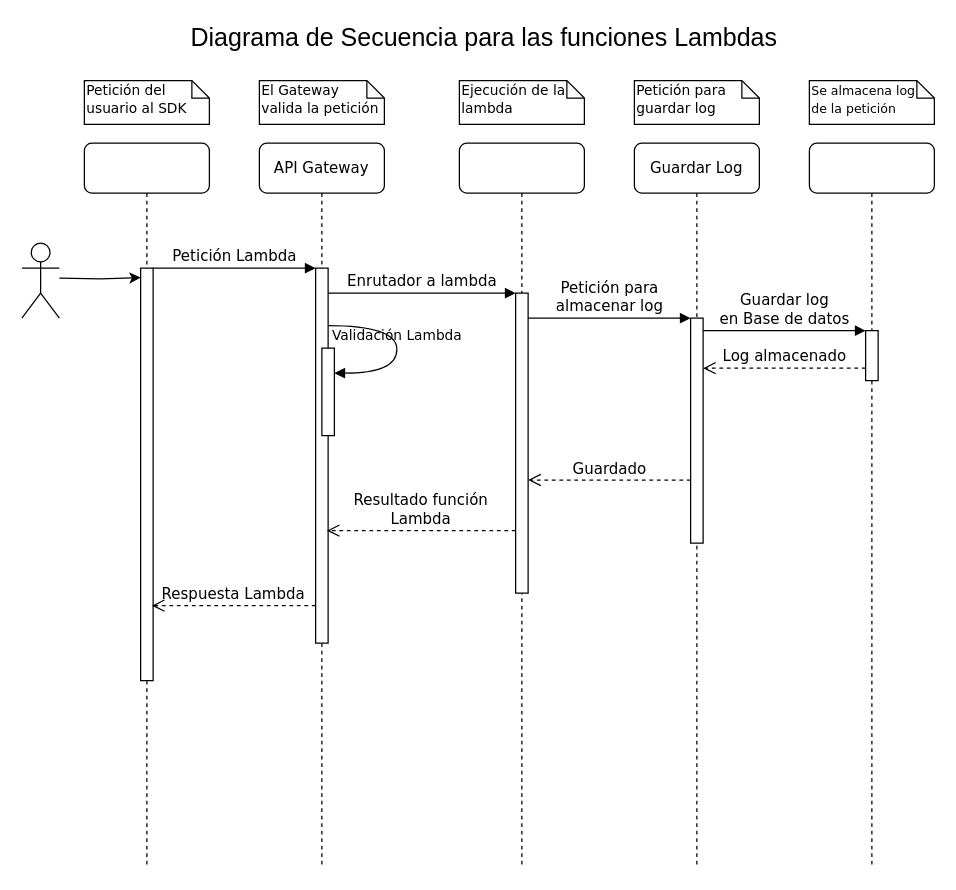
This 956x890 diagram has some shape labels left out. The box of each missing label's shape, as (x1, y1, x2, y2) in pixels:
Actor: (21, 242, 59, 318)
Base de datos: (808, 142, 934, 868)
Función Lambda: (458, 142, 584, 868)
SDK: (83, 142, 209, 868)
